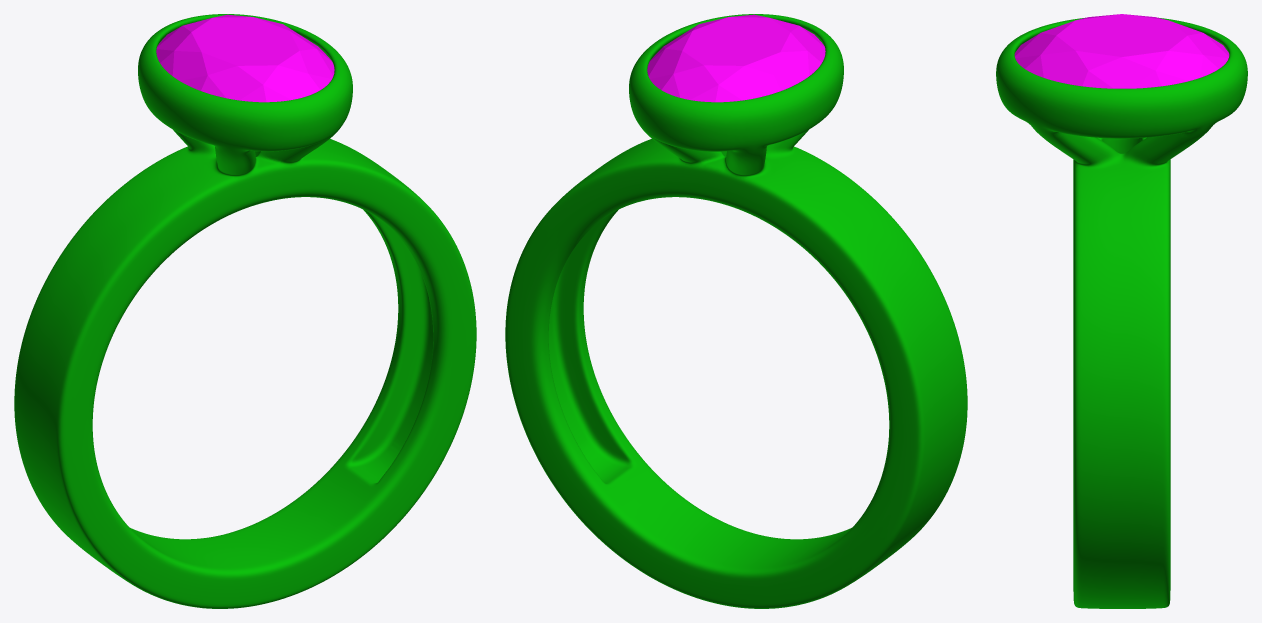
The model's file is BE13477_OV_200ct_RENDER.glb.
3 renders of one model, left to right at view 1: azimuth 30°, elevation 25°; view 2: azimuth 150°, elevation 25°; view 3: azimuth 270°, elevation 25°, orthographic.
Parts seen in each view (by area): view 1: Metal 01, CS_Diamond_Oval; view 2: Metal 01, CS_Diamond_Oval; view 3: Metal 01, CS_Diamond_Oval.
Part boxes in pixels (x1,y1,x2,y2): Metal 01: [14, 14, 476, 608]; CS_Diamond_Oval: [156, 14, 334, 102]; Metal 01: [505, 14, 967, 608]; CS_Diamond_Oval: [647, 14, 825, 102]; Metal 01: [996, 17, 1247, 608]; CS_Diamond_Oval: [1014, 14, 1229, 88].
Bounding box in the file's own units: 20.12 × 24.99 × 10.36.
